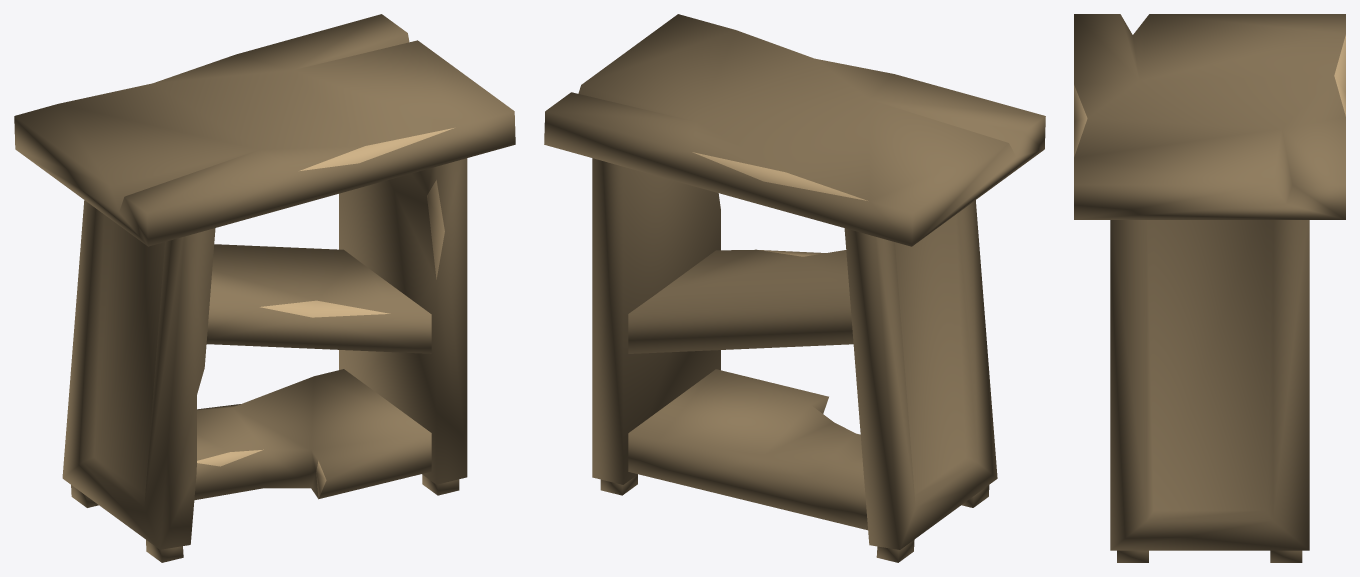
Rendered from rpgpp_av_shelf_small_01a.gltf.
The picture shows the model from 3 angles, left to right: view 1: azimuth 30°, elevation 25°; view 2: azimuth 150°, elevation 25°; view 3: azimuth 270°, elevation 25°; orthographic projection. The views are drawn at different scales.
Visible parts, largest first — view 1: rpgpp_av_shelf_small_01a; view 2: rpgpp_av_shelf_small_01a; view 3: rpgpp_av_shelf_small_01a.
Boxes of the visible parts, left/top/right/bottom form: rpgpp_av_shelf_small_01a: left=14, top=14, right=515, bottom=562; rpgpp_av_shelf_small_01a: left=544, top=14, right=1045, bottom=562; rpgpp_av_shelf_small_01a: left=1074, top=14, right=1345, bottom=562.
Bounding box in the file's own units: 0.00802 × 0.00803 × 0.00501.
1 material, 1 textured.
